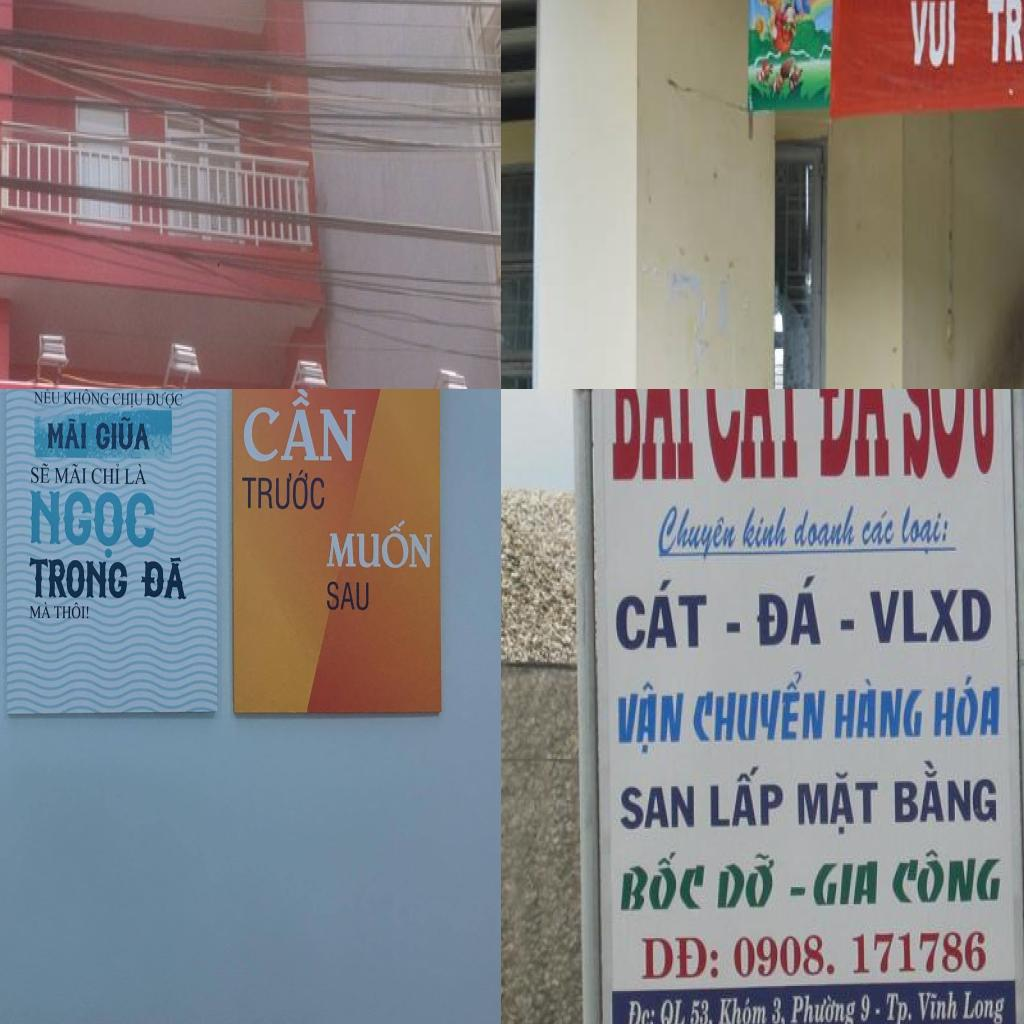text: (731, 920, 999, 984), (693, 667, 832, 750), (701, 389, 807, 487), (864, 573, 997, 648), (604, 389, 701, 489), (28, 488, 158, 560), (242, 389, 360, 468), (612, 572, 714, 658), (892, 754, 1002, 832), (811, 389, 896, 487), (890, 844, 1006, 913), (894, 389, 970, 494), (832, 672, 927, 744), (792, 770, 884, 844), (704, 761, 789, 839), (617, 848, 709, 918), (612, 672, 686, 759), (754, 570, 830, 652), (931, 664, 1006, 746), (323, 518, 434, 570), (654, 498, 739, 563), (621, 772, 699, 838), (810, 846, 884, 914), (638, 928, 724, 984), (28, 556, 132, 602), (902, 0, 963, 73), (716, 846, 781, 914), (242, 465, 326, 512), (792, 500, 859, 556), (899, 498, 951, 561), (982, 0, 1024, 73), (738, 500, 792, 556), (139, 555, 187, 603), (791, 991, 856, 1024), (93, 415, 151, 451), (961, 984, 1008, 1024), (916, 984, 962, 1024), (858, 508, 898, 553), (715, 992, 768, 1024), (47, 416, 89, 452), (883, 987, 915, 1024), (626, 996, 658, 1024), (659, 994, 688, 1024), (62, 389, 110, 407), (716, 614, 748, 641), (53, 601, 91, 622), (91, 461, 121, 487), (147, 390, 185, 410), (690, 994, 715, 1024), (54, 463, 88, 485), (835, 612, 860, 636), (112, 391, 144, 409), (28, 462, 52, 486), (123, 462, 147, 486), (769, 992, 787, 1024), (787, 879, 809, 904), (28, 600, 52, 621), (860, 989, 873, 1024), (33, 389, 60, 405), (873, 1003, 885, 1022)
